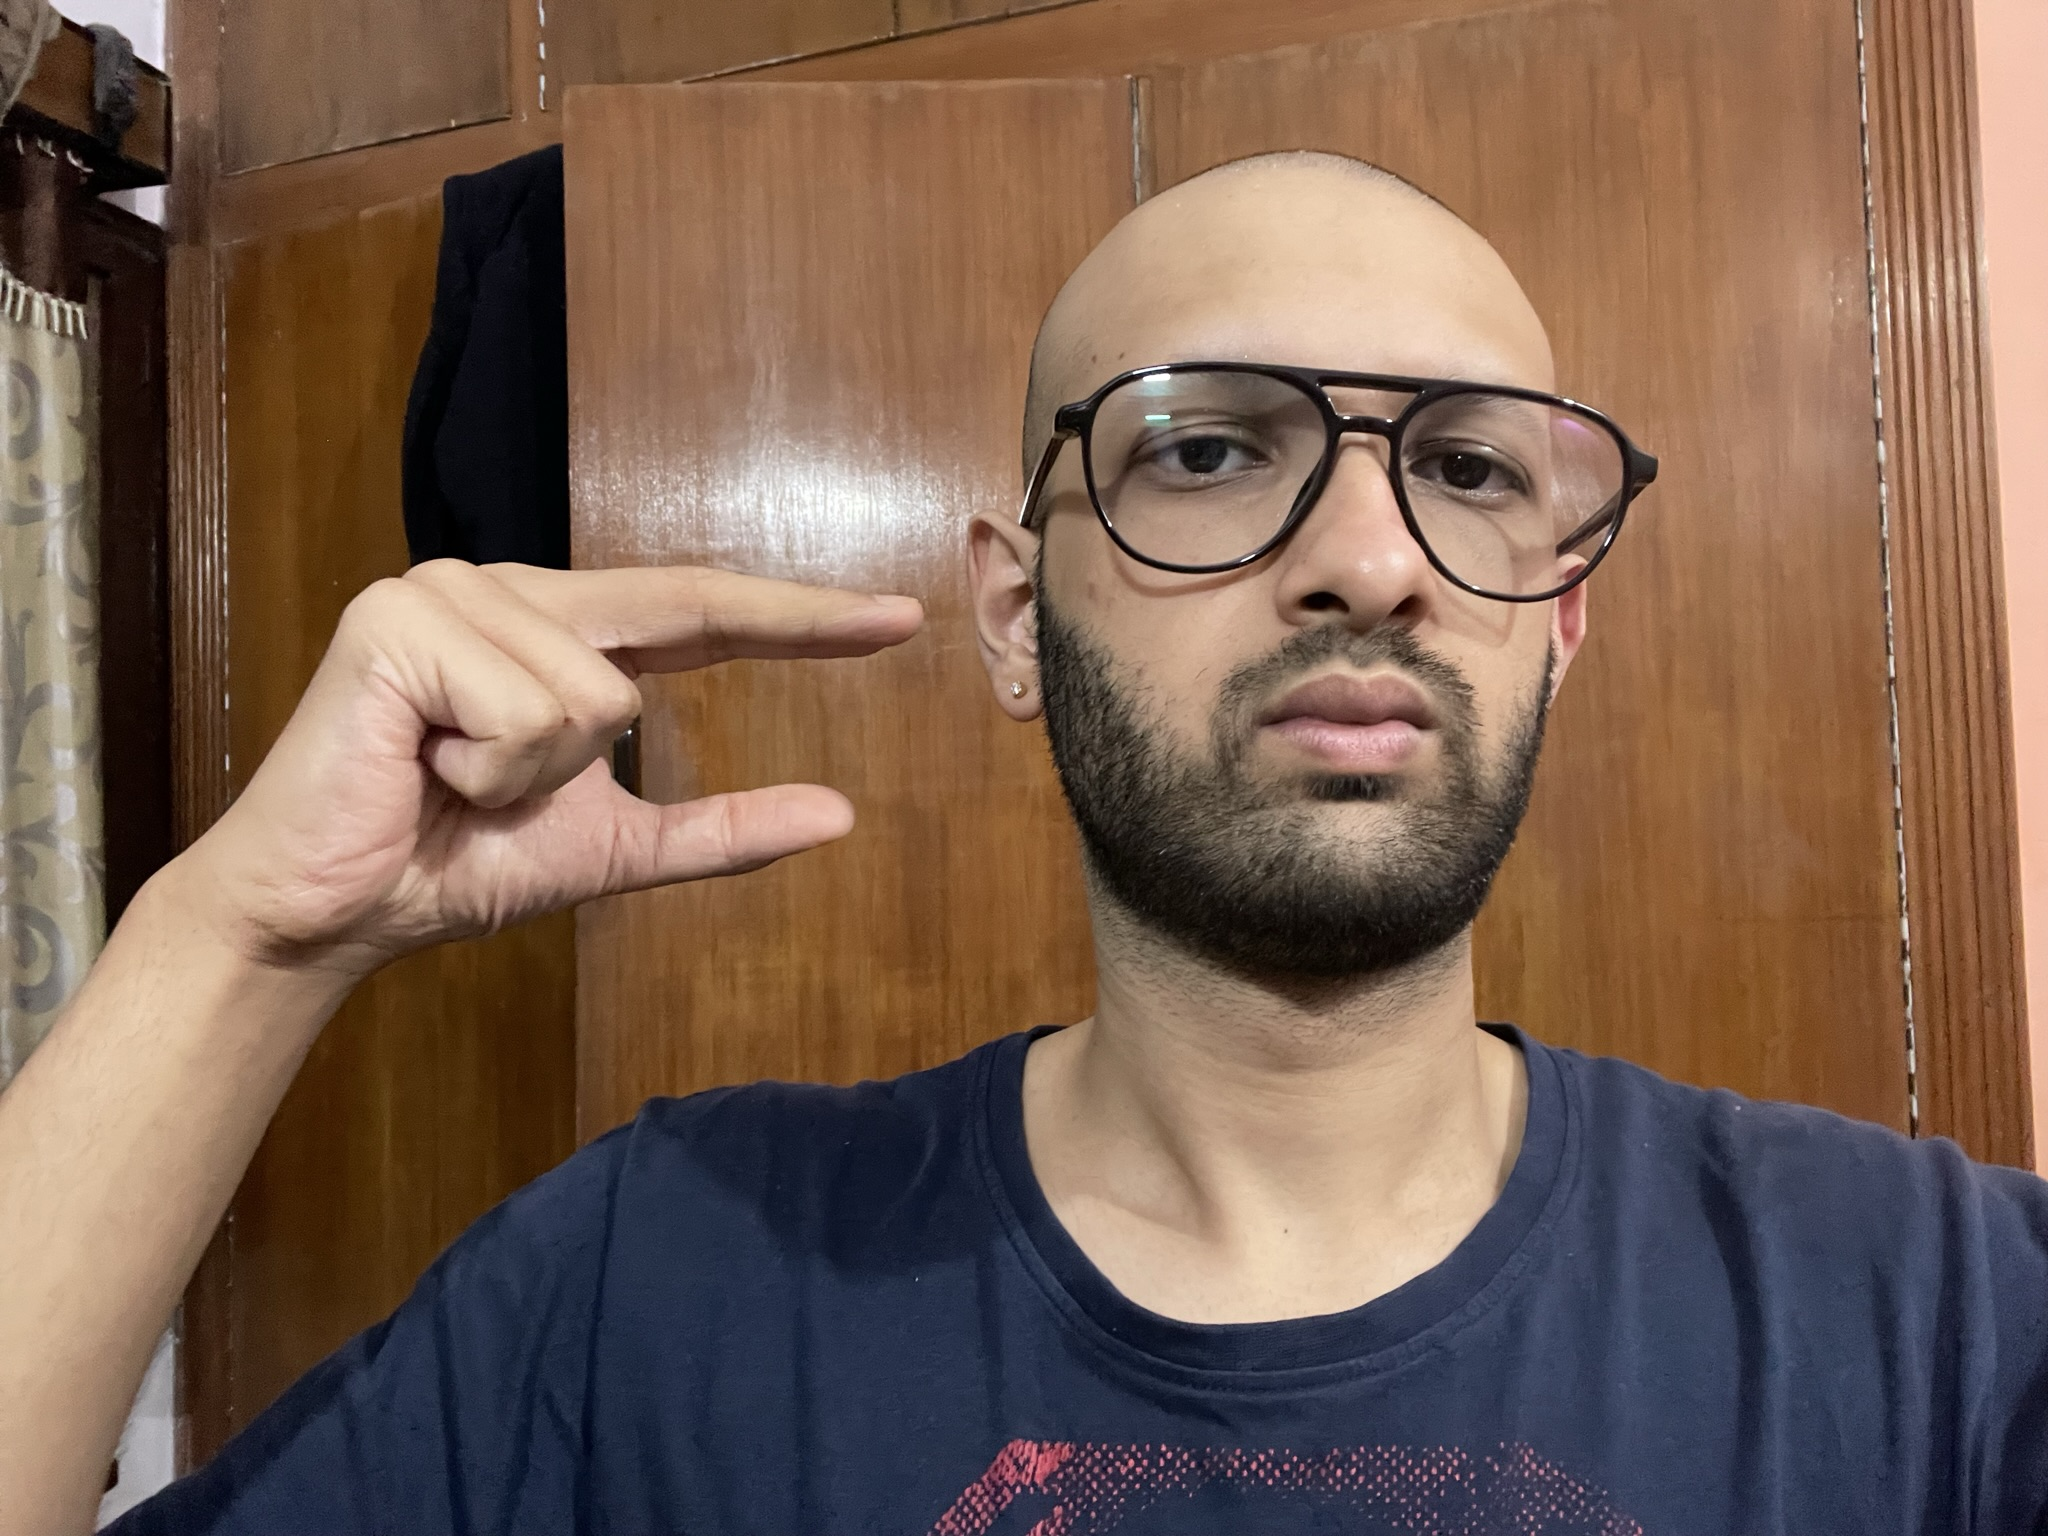No: (158, 558, 940, 975)
